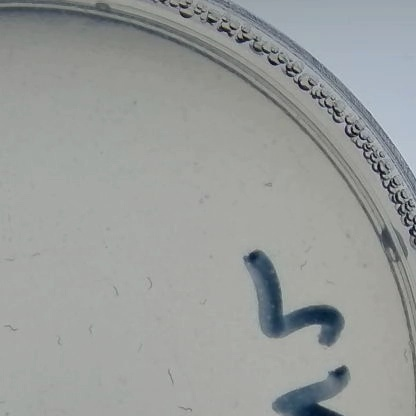worm: (155, 365, 186, 386), (19, 245, 48, 266), (391, 341, 414, 366), (134, 273, 158, 292), (315, 271, 339, 289), (170, 398, 195, 415), (2, 319, 23, 339), (294, 252, 311, 273), (0, 205, 17, 225), (105, 279, 123, 297), (194, 293, 212, 309), (55, 330, 68, 352), (0, 249, 16, 265), (131, 340, 146, 356), (88, 319, 98, 340), (301, 243, 316, 256)
